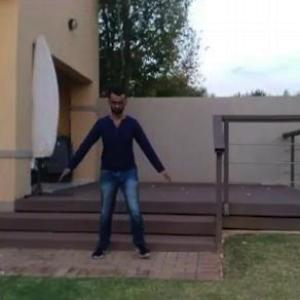land: (53, 86, 162, 265)
